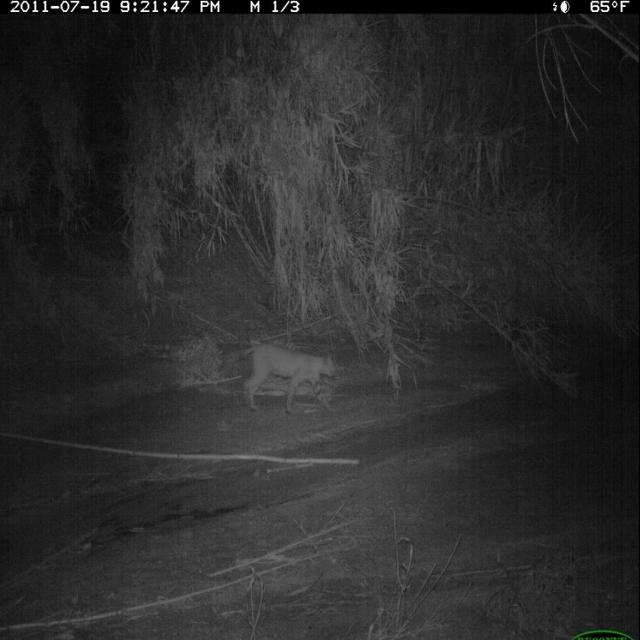bobcat: (237, 336, 340, 420)
